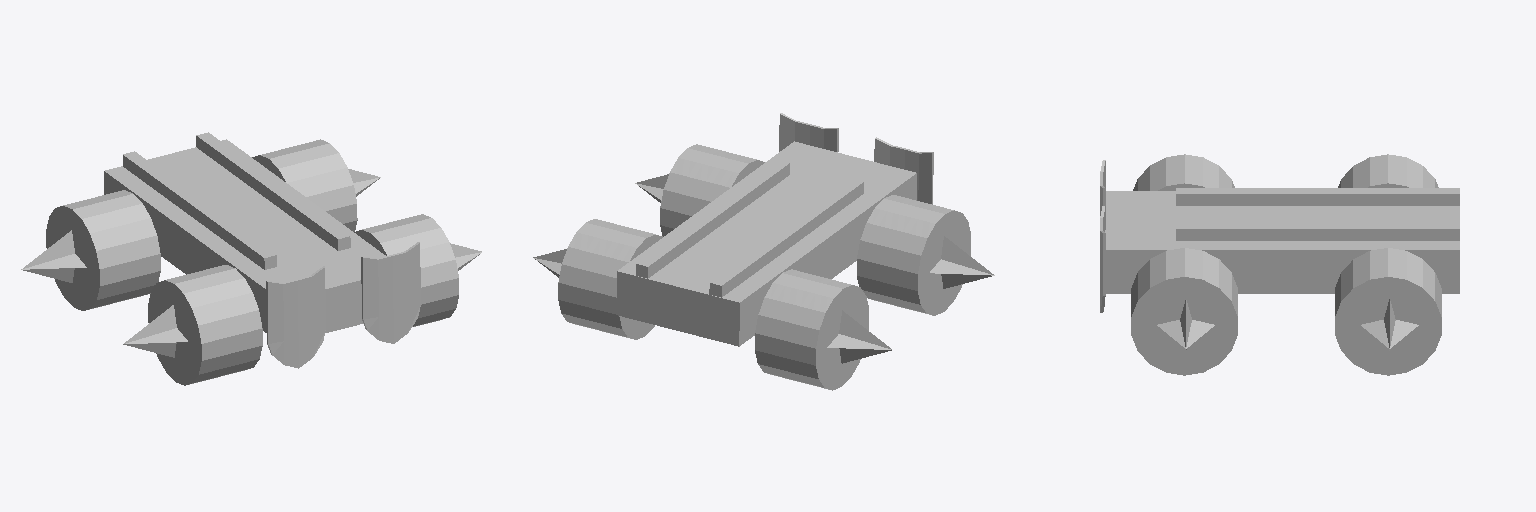
File: ballista_woBow.obj
The picture shows the model from 3 angles: view 1: azimuth 30°, elevation 25°; view 2: azimuth 150°, elevation 25°; view 3: azimuth 270°, elevation 25°; orthographic projection.
Visible parts, largest first — view 1: Box001, Cylinder007, Cylinder002, Cylinder006, Box004, Box005, Cylinder004, Box003, Box002, Cone003, Cone002; view 2: Box001, Cylinder002, Cylinder007, Cylinder004, Cylinder006, Box002, Box003, Cone003, Cone002, Box004, Box005; view 3: Box001, Cylinder004, Cylinder006, Box002, Box003, Cylinder007, Cylinder002, Cone003, Cone002, Box005.
Part boxes in pixels (bbox=[...]): Box001: bbox=[104, 139, 385, 332]; Cylinder007: bbox=[148, 265, 262, 385]; Cylinder002: bbox=[46, 190, 160, 310]; Cylinder006: bbox=[354, 214, 458, 326]; Box004: bbox=[266, 266, 325, 368]; Box005: bbox=[361, 242, 420, 343]; Cylinder004: bbox=[252, 139, 357, 231]; Box003: bbox=[196, 132, 350, 250]; Box002: bbox=[123, 151, 276, 269]; Cone003: bbox=[21, 169, 380, 282]; Cone002: bbox=[123, 243, 481, 357]; Box001: bbox=[616, 141, 916, 346]; Cylinder002: bbox=[755, 269, 868, 390]; Cylinder007: bbox=[857, 195, 970, 315]; Cylinder004: bbox=[558, 219, 662, 339]; Cylinder006: bbox=[660, 144, 764, 236]; Box002: bbox=[709, 179, 863, 297]; Box003: bbox=[636, 160, 789, 278]; Cone003: bbox=[533, 249, 891, 363]; Cone002: bbox=[635, 174, 994, 288]; Box004: bbox=[874, 137, 933, 204]; Box005: bbox=[779, 113, 838, 151]; Box001: bbox=[1105, 191, 1459, 293]; Cylinder004: bbox=[1335, 248, 1441, 375]; Cylinder006: bbox=[1131, 248, 1237, 375]; Box002: bbox=[1176, 188, 1459, 205]; Box003: bbox=[1176, 223, 1459, 240]; Cylinder007: bbox=[1133, 154, 1234, 190]; Cylinder002: bbox=[1338, 154, 1438, 187]; Cone003: bbox=[1361, 299, 1418, 350]; Cone002: bbox=[1157, 300, 1214, 349]; Box005: bbox=[1100, 206, 1105, 312].
Size of the model in its own units: 8.51 by 2.7 by 7.37.